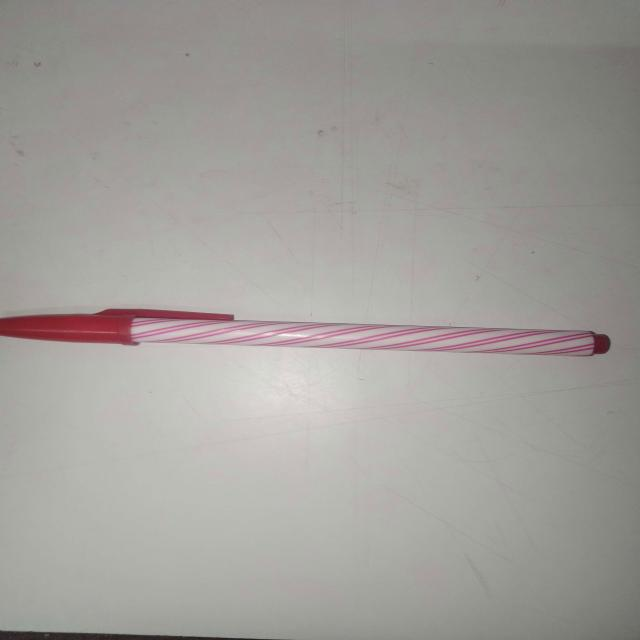pen_pencil: (0, 295, 622, 383)
